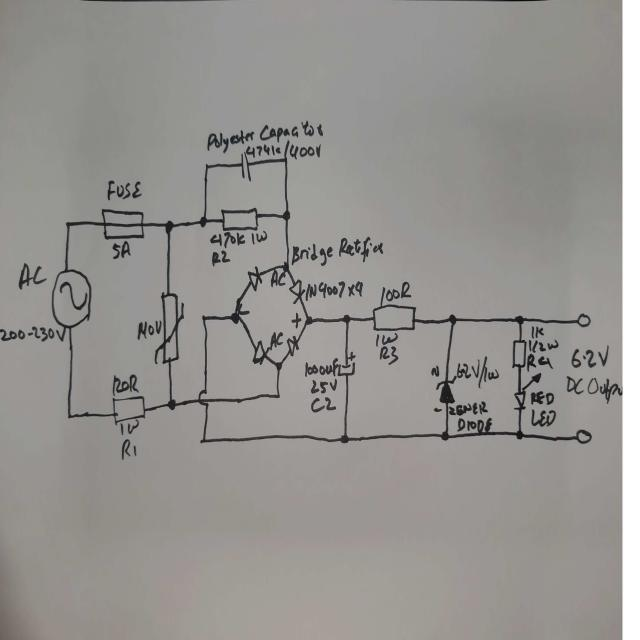capacitor: (337, 351, 356, 379), (240, 152, 252, 183)
crossover: (197, 387, 211, 409)
diode: (430, 364, 456, 412), (513, 370, 541, 412), (250, 338, 270, 366), (246, 266, 264, 292), (288, 280, 305, 306), (286, 334, 299, 359)
junction: (166, 396, 176, 412), (339, 431, 350, 445), (164, 219, 174, 234), (231, 312, 240, 324), (441, 430, 450, 442), (515, 314, 524, 326), (274, 360, 282, 373), (282, 209, 290, 222), (342, 313, 350, 326), (448, 313, 456, 326), (515, 428, 523, 441), (305, 314, 313, 326), (199, 216, 207, 228), (283, 261, 291, 273), (64, 220, 73, 230), (65, 410, 74, 420), (274, 390, 281, 401), (200, 313, 207, 324), (200, 434, 207, 445), (203, 161, 210, 172), (282, 154, 288, 165)
resistor: (372, 303, 418, 333), (112, 394, 146, 425), (220, 207, 258, 231), (511, 339, 527, 370)
source: (50, 265, 93, 330)
terminal: (574, 426, 591, 447), (577, 311, 591, 330)
text: (207, 119, 322, 151), (292, 235, 386, 262), (564, 372, 623, 404), (245, 139, 321, 159), (0, 322, 66, 345), (448, 400, 492, 434), (456, 355, 499, 389), (304, 280, 364, 299), (572, 343, 610, 369), (374, 330, 401, 366), (210, 230, 268, 246), (107, 179, 143, 204), (18, 262, 48, 290), (304, 357, 339, 378), (378, 283, 412, 303), (136, 319, 164, 341), (112, 374, 140, 394), (530, 407, 557, 427), (310, 396, 337, 415), (526, 351, 553, 370), (309, 378, 338, 395), (529, 389, 554, 406), (111, 241, 132, 261), (528, 338, 558, 352), (120, 438, 138, 460), (118, 419, 139, 436), (211, 249, 230, 267), (270, 268, 286, 289), (270, 330, 284, 352), (529, 326, 545, 338), (292, 313, 302, 328), (239, 307, 249, 316)
